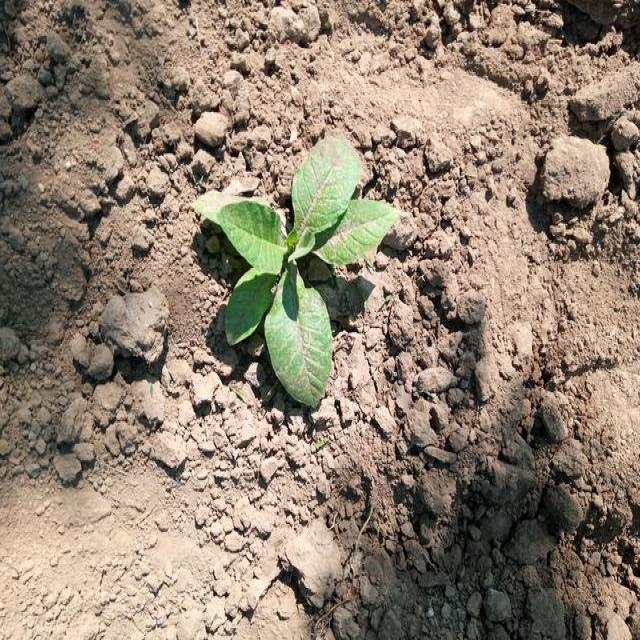crop: (198, 137, 404, 416)
